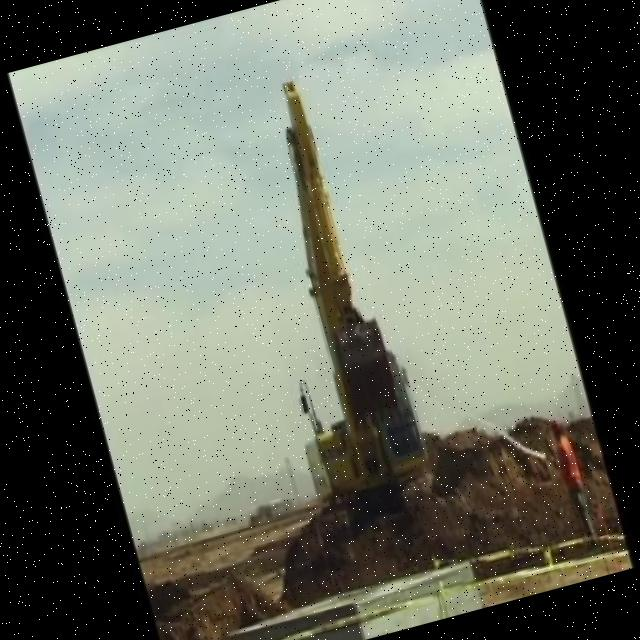Excavator: (205, 61, 439, 518)
